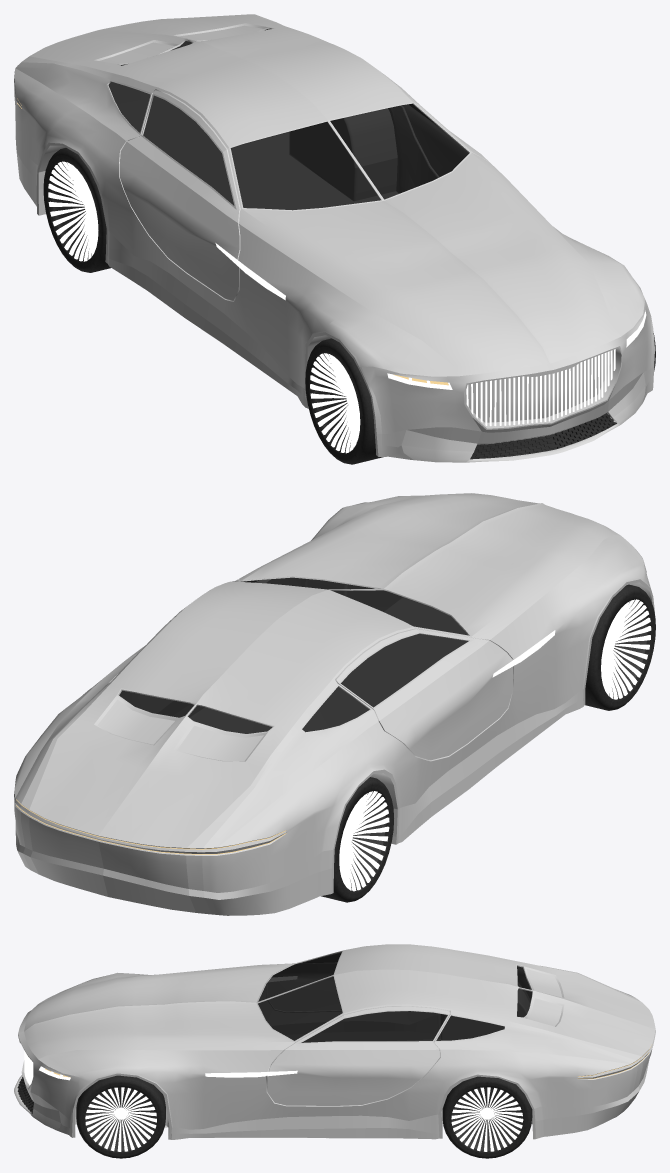
The model's file is car.glb.
3 views of the same model, one above another, from view 1: azimuth 30°, elevation 25°; view 2: azimuth 150°, elevation 25°; view 3: azimuth 270°, elevation 25° (orthographic). The views are drawn at different scales.
Parts seen in each view (by area): view 1: Mercedes Maybach concept 6, Circle.003, Circle.004, Plane, Maybech.007; view 2: Mercedes Maybach concept 6, Circle.003, Circle.004; view 3: Mercedes Maybach concept 6, Circle.008, Circle.009.
Part boxes in pixels (box(x1,y1,x2,y2)): Mercedes Maybach concept 6: box(14, 14, 654, 462); Circle.003: box(305, 338, 383, 464); Circle.004: box(43, 148, 110, 272); Plane: box(466, 349, 615, 426); Maybech.007: box(470, 413, 616, 459); Mercedes Maybach concept 6: box(14, 493, 654, 915); Circle.003: box(585, 584, 655, 710); Circle.004: box(321, 777, 393, 902); Mercedes Maybach concept 6: box(14, 944, 655, 1139); Circle.008: box(76, 1075, 165, 1158); Circle.009: box(442, 1076, 532, 1158).
Size of the model in its own units: 2.47 by 1.6 by 6.61.
Materials: 8 (2 with a texture image).
